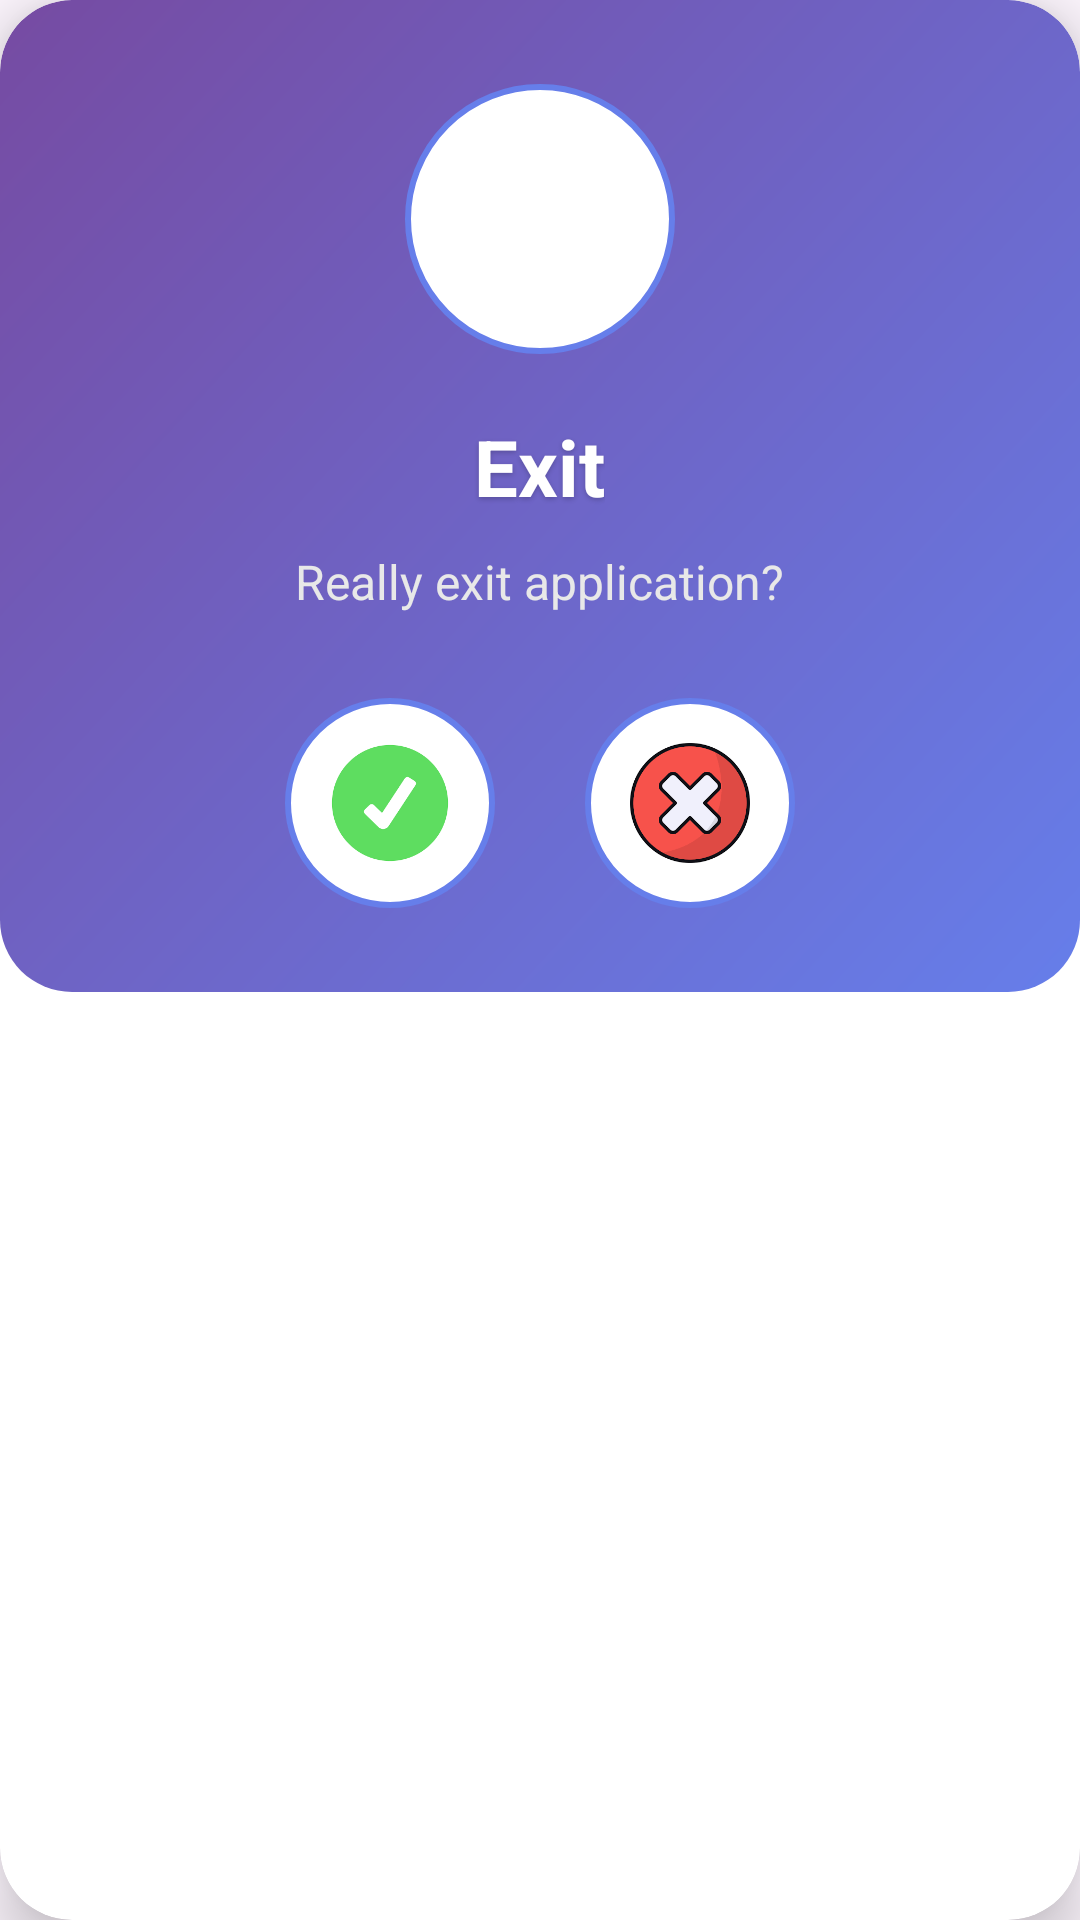

Locate icon controls on the screen. Image size 1080px×1920px, boxes as (x1, y1, x2, y2).
yes: (332, 745, 448, 861)
